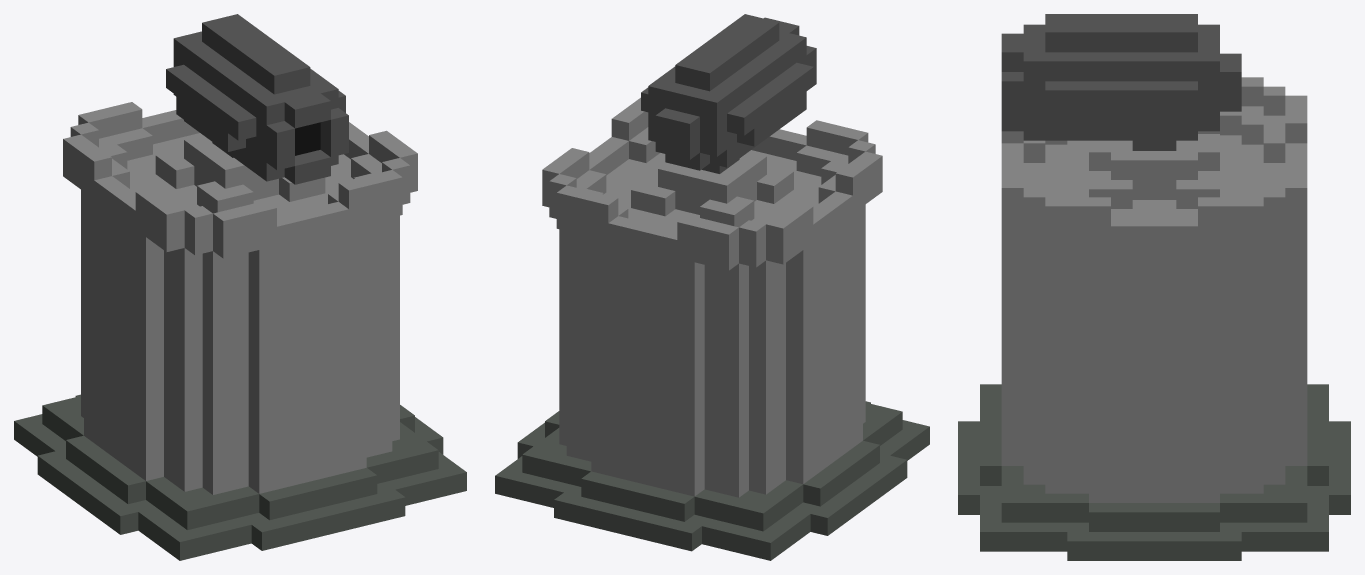
Rendered from pushka1.obj.
The picture shows the model from 3 angles, left to right: view 1: azimuth 30°, elevation 25°; view 2: azimuth 150°, elevation 25°; view 3: azimuth 270°, elevation 25°; orthographic projection. The views are drawn at different scales.
Size of the model in its own units: 1.8 by 2.3 by 1.8.
Materials: 1 (1 with a texture image).
